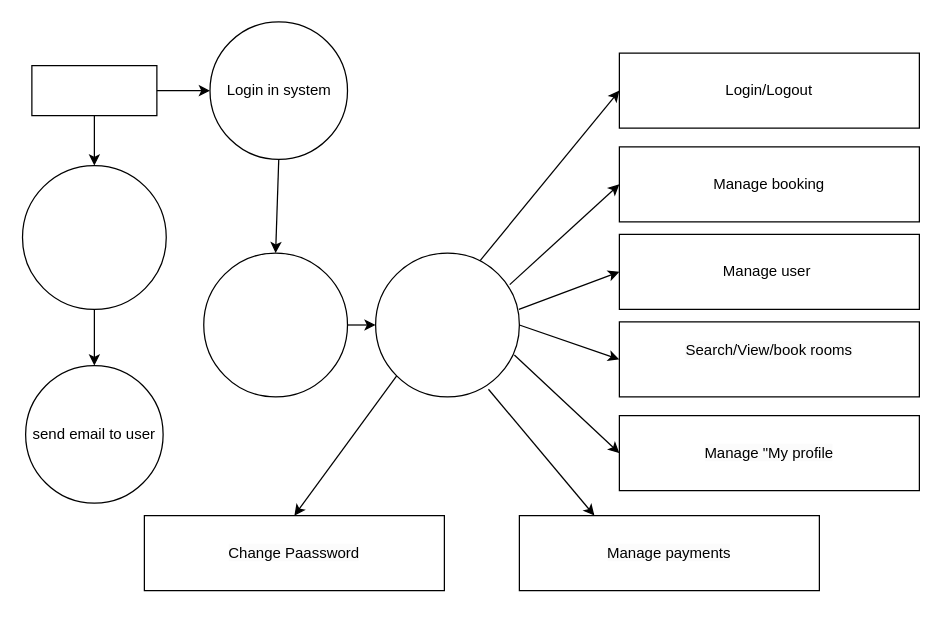
Image size: 941x620. Some labels were removed from this diagram. Each missing label, with the centre of its shape:
"Check roles of access" belongs at (275,324).
"Forgot password" belongs at (93,236).
"Manage modules" belongs at (446,324).
"User" belongs at (94,90).
